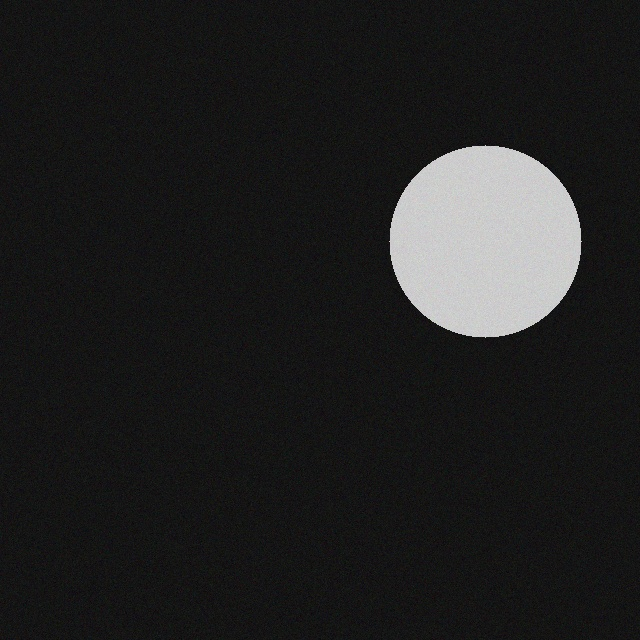circle: (389, 136, 581, 328)
